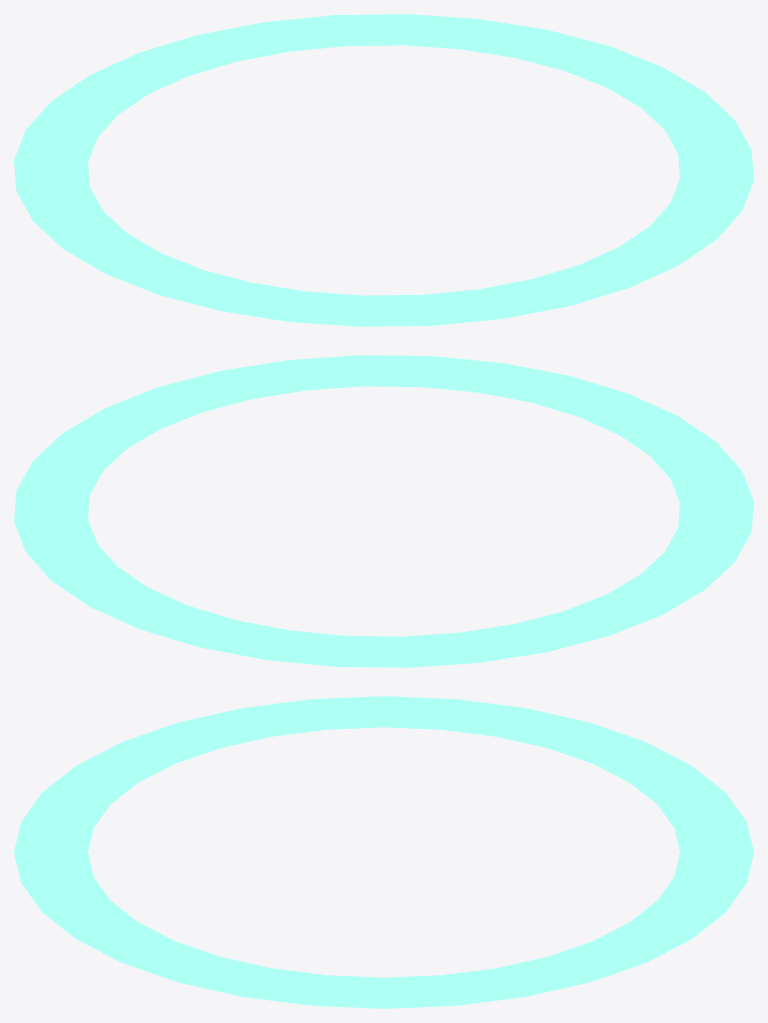
The model's file is tide_ring.glb.
The picture shows the model from 3 angles, top to bottom: view 1: azimuth 30°, elevation 25°; view 2: azimuth 150°, elevation 25°; view 3: azimuth 270°, elevation 25°; orthographic projection.
Parts seen in each view (by area): view 1: effect; view 2: effect; view 3: effect.
Part boxes in pixels (x1,y1,x2,y2): effect: (14,14,753,326); effect: (14,355,753,667); effect: (14,696,753,1008).
Bounding box in the file's own units: 2 × 0 × 2.
